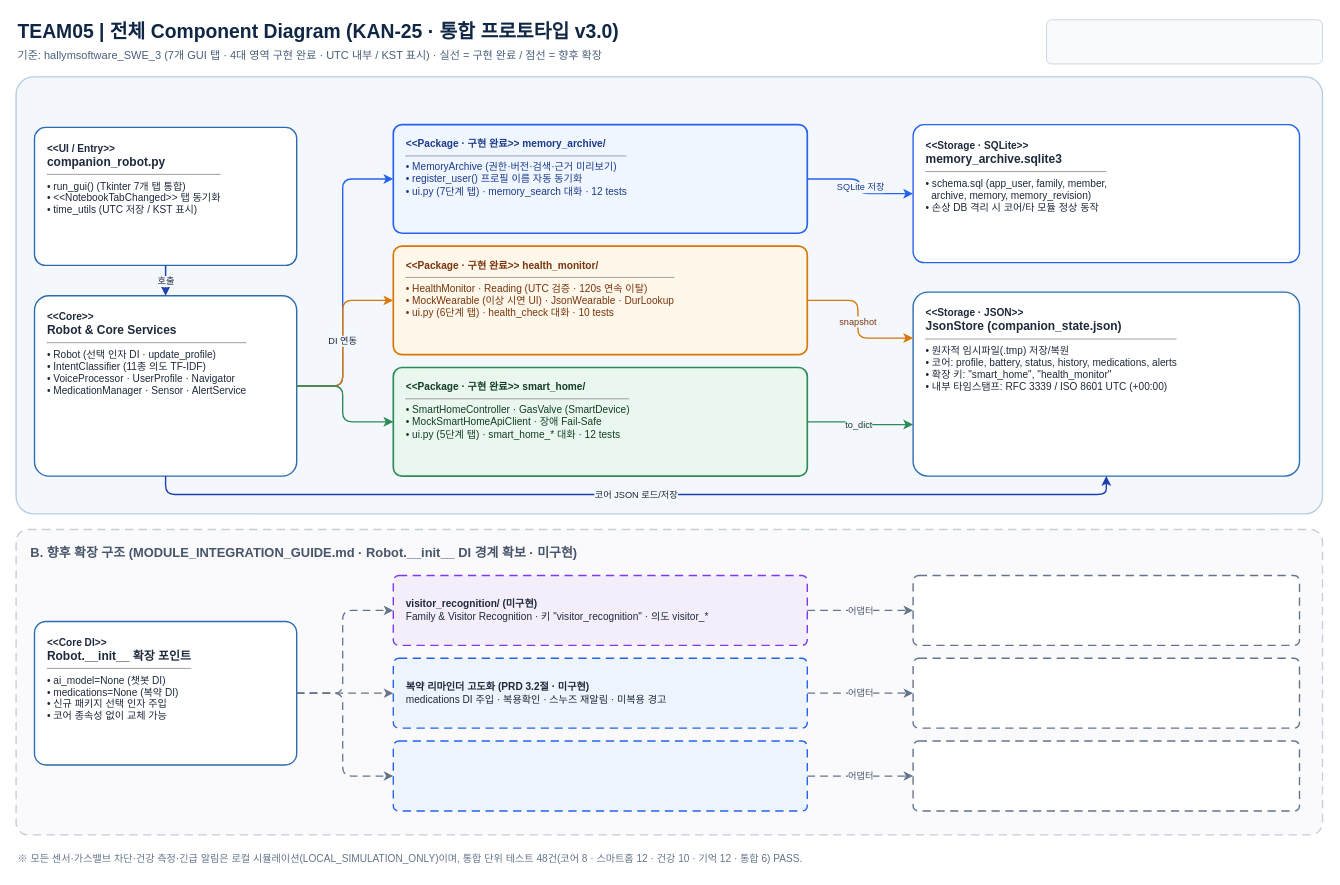
The diagram is 1340 pixels wide and 885 high, and some of its shapes have lost their labels. Each missing label, with the box of its shape:
A. 현재 구현 완료 구조 (1~4단계 코어 + 5~7단계 3개 독립 모듈 · 통합 프로토타입): (15, 76, 1323, 514)
Ollama 오픈웨이트 어댑터 + Mock 추론 비용 절감 · 오프라인 단위 테스트 Mock: (912, 740, 1300, 811)
리마인더 스케줄러 + AlertService 기존 MedicationManager 하위 호환 유지: (912, 657, 1300, 728)
방문자 인식 어댑터 + 보호자 알림 LOCAL_SIMULATION_ONLY 원칙 준수: (912, 574, 1300, 646)
실선: 현재 저장소 구현 완료 (48 tests PASS) 점선: DI 경계 기반 향후 확장 예정: (1046, 19, 1322, 64)
일상 대화 챗봇 (미구현) ai_model DI 주입 · 오픈웨이트 Ollama 모델 연동 예정: (392, 740, 808, 811)
